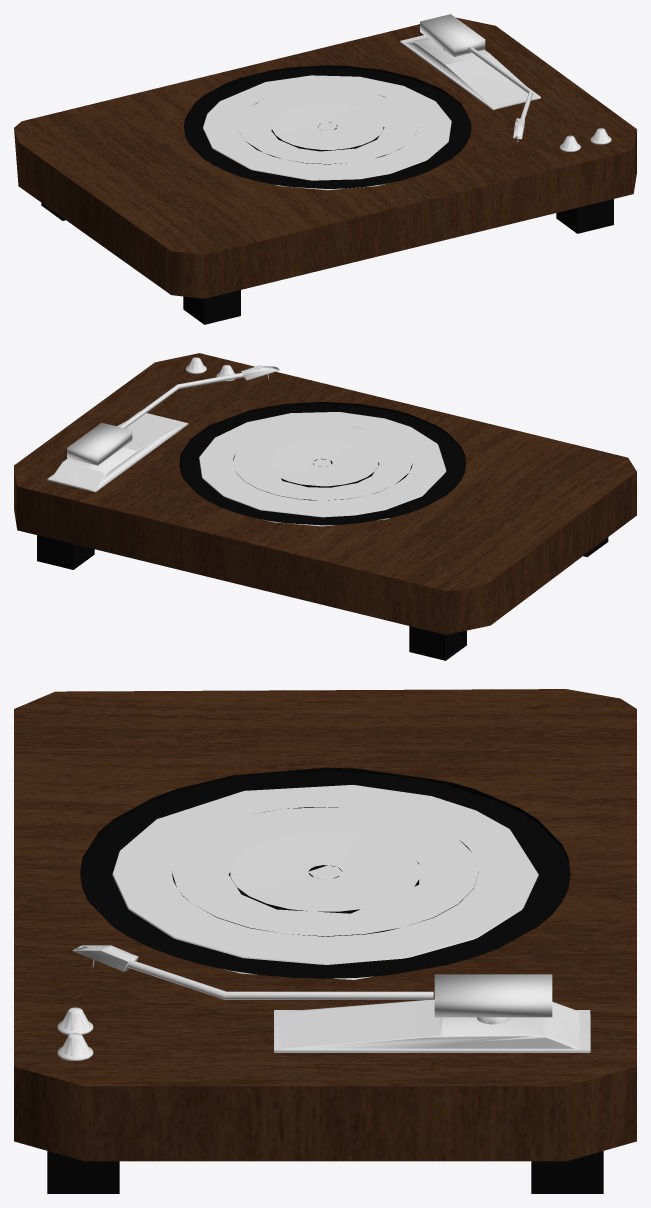
Rendered from turntable.glb.
3 views of the same model, one above another, from view 1: azimuth 30°, elevation 25°; view 2: azimuth 150°, elevation 25°; view 3: azimuth 270°, elevation 25° (orthographic). The views are drawn at different scales.
Visible parts, largest first — view 1: music player, player, disk, player.002, player legs, player.001, Vert; view 2: music player, player, disk, player.002, player legs, player.001, Vert; view 3: music player, player, disk, player.002, player.001, player legs, Vert, player.003, player knob, player knob.001.
Part boxes in pixels (bbox=[...]): music player: bbox=[14, 17, 636, 298]; player: bbox=[203, 75, 451, 190]; disk: bbox=[184, 65, 471, 188]; player.002: bbox=[400, 35, 540, 109]; player legs: bbox=[41, 199, 613, 324]; player.001: bbox=[420, 14, 485, 56]; Vert: bbox=[468, 46, 533, 118]; music player: bbox=[14, 353, 636, 634]; player: bbox=[199, 412, 446, 526]; disk: bbox=[179, 402, 466, 525]; player.002: bbox=[47, 411, 188, 492]; player legs: bbox=[37, 535, 608, 660]; player.001: bbox=[67, 422, 132, 465]; Vert: bbox=[119, 373, 244, 428]; music player: bbox=[14, 689, 636, 1161]; player: bbox=[112, 785, 538, 979]; disk: bbox=[80, 767, 570, 978]; player.002: bbox=[274, 999, 590, 1052]; player.001: bbox=[434, 974, 552, 1024]; player legs: bbox=[47, 1151, 603, 1193]; Vert: bbox=[127, 960, 433, 999]; player.003: bbox=[72, 945, 138, 971]; player knob: bbox=[57, 1033, 93, 1060]; player knob.001: bbox=[57, 1007, 93, 1034].
Size of the model in its own units: 1.12 by 0.2397 by 0.7452.
Materials: 3 (1 with a texture image).
